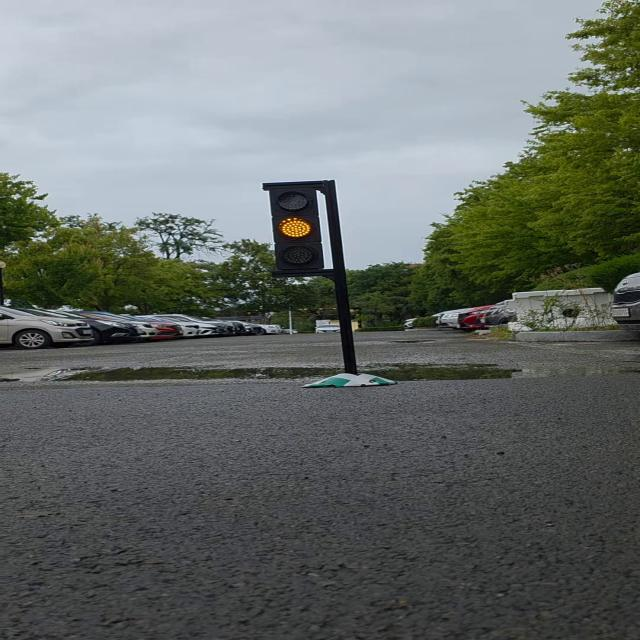yellow: (262, 182, 329, 274)
